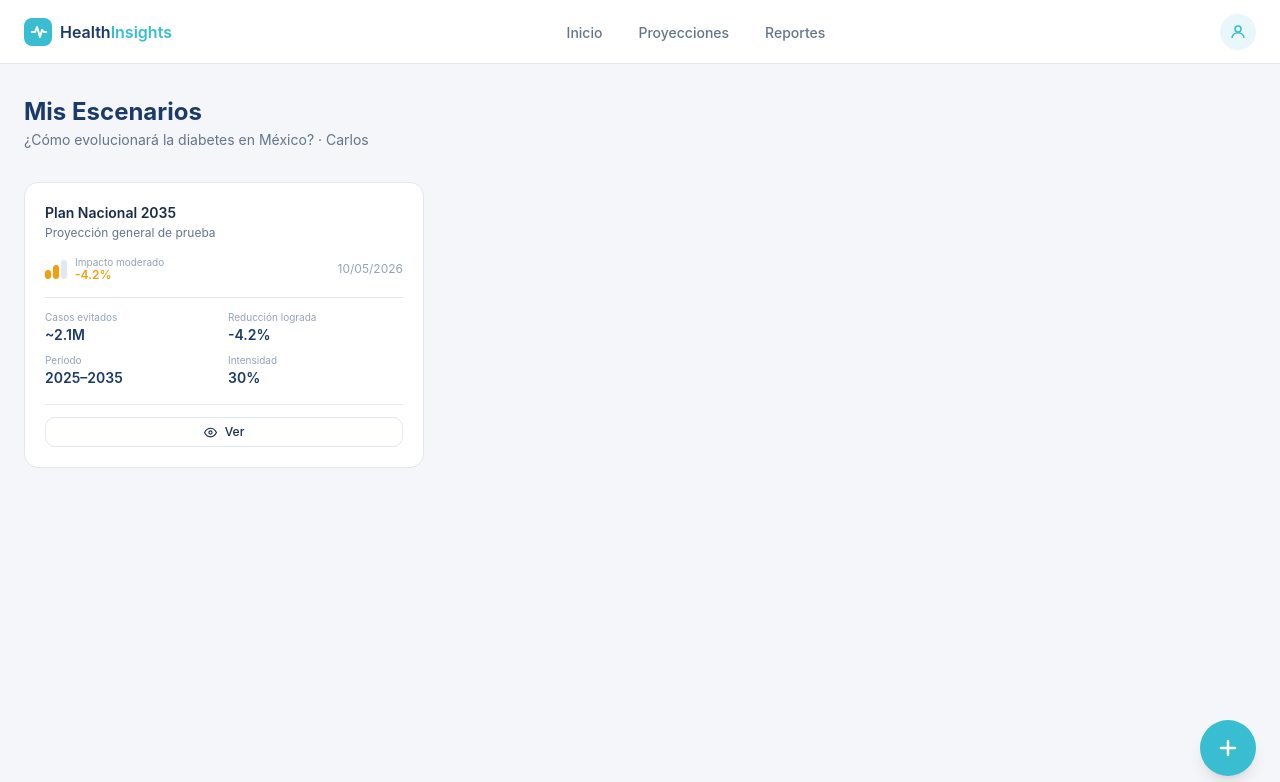
Test case: GeneralProyeccionesPage › navega al detalle al hacer clic en Ver
expect the heading "Plan Nacional 2035" is shown: met, box [45, 204, 176, 221]
Click the button "Ver" at point(224, 432), box [45, 417, 403, 447]
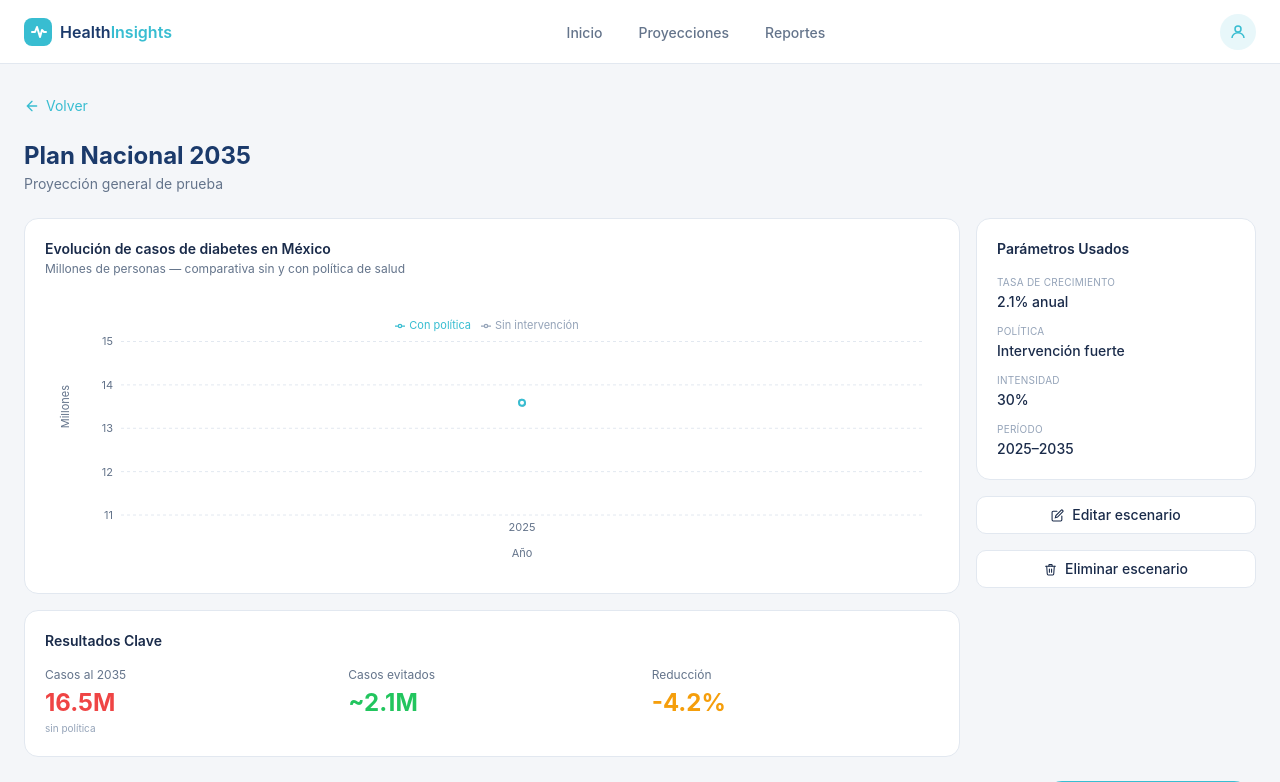
expect the button "Volver" is shown: met, box [24, 96, 88, 116]
